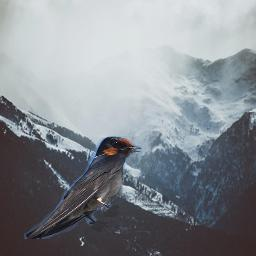Swallow: (24, 136, 142, 239)
